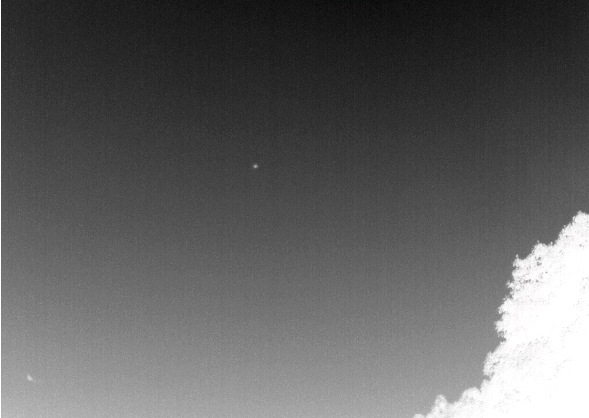dim target: (25, 374, 34, 381), (251, 163, 259, 169)
